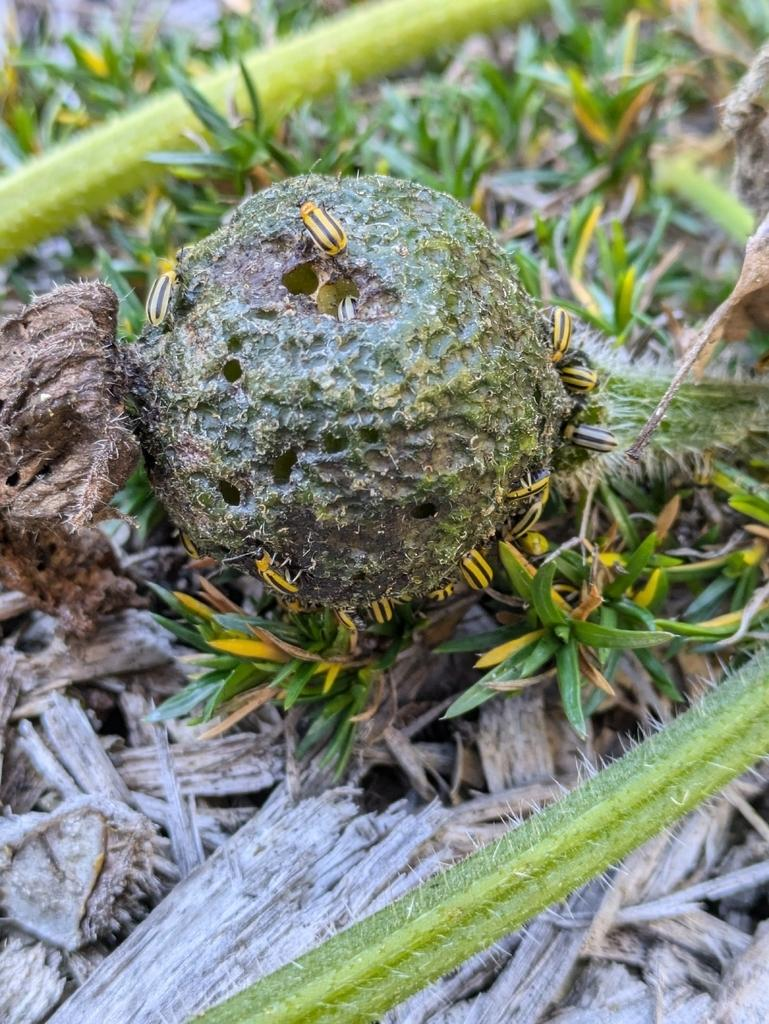potato_beetle: (123, 230, 202, 343), (281, 184, 361, 267), (231, 529, 316, 607), (447, 531, 507, 598), (536, 294, 583, 378)
